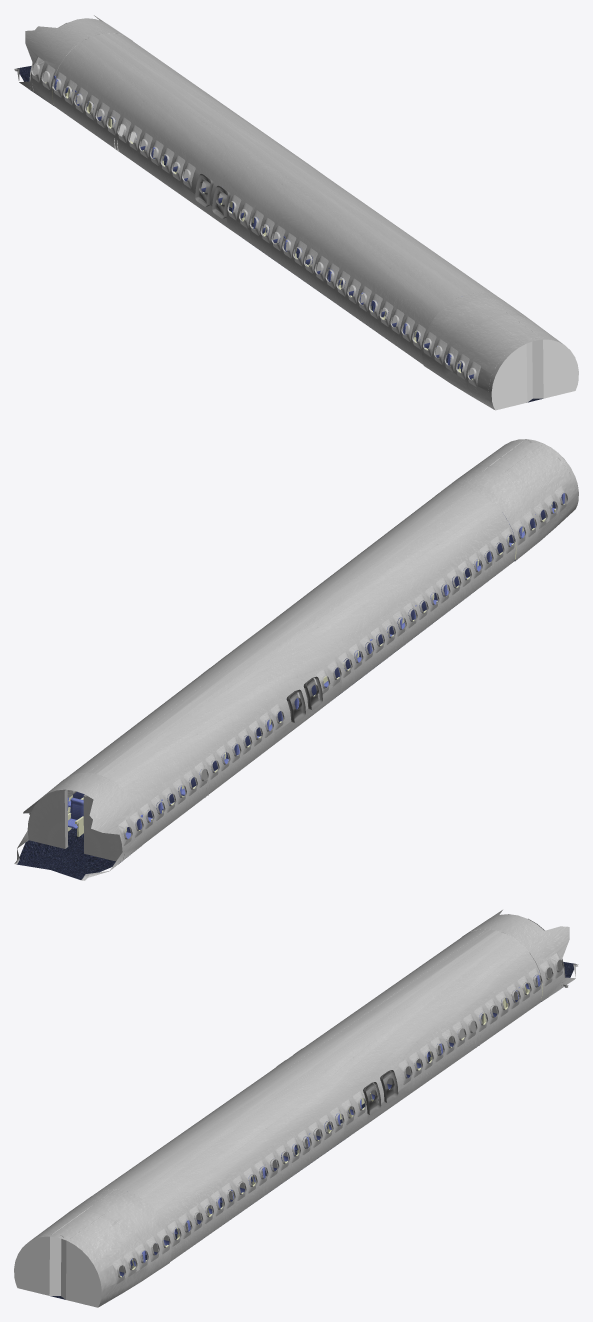
3 renders of one model, top to bottom at view 1: azimuth 30°, elevation 25°; view 2: azimuth 150°, elevation 25°; view 3: azimuth 330°, elevation 25°, orthographic.
Parts seen in each view (by area): view 1: static-material-1, static-material-2, static-material-5, static-material-0, static-material-6; view 2: static-material-1, static-material-5, static-material-7, static-material-0, static-material-4; view 3: static-material-1, static-material-2, static-material-5, static-material-0, static-material-6.
Part boxes in pixels (x1,y1,x2,y2): static-material-1: [14, 15, 563, 409]; static-material-2: [114, 124, 578, 410]; static-material-5: [54, 75, 473, 379]; static-material-0: [195, 173, 230, 218]; static-material-6: [56, 81, 474, 375]; static-material-1: [14, 439, 578, 880]; static-material-5: [67, 493, 565, 838]; static-material-7: [16, 559, 515, 879]; static-material-0: [27, 661, 322, 841]; static-material-4: [68, 502, 564, 836]; static-material-1: [29, 910, 578, 1307]; static-material-2: [14, 1020, 480, 1307]; static-material-5: [119, 971, 540, 1276]; static-material-0: [276, 984, 568, 1115]; static-material-6: [119, 977, 538, 1272].
Bounding box in the file's own units: 3.72 × 2.71 × 31.41.
Materials: 8 (4 with a texture image).
